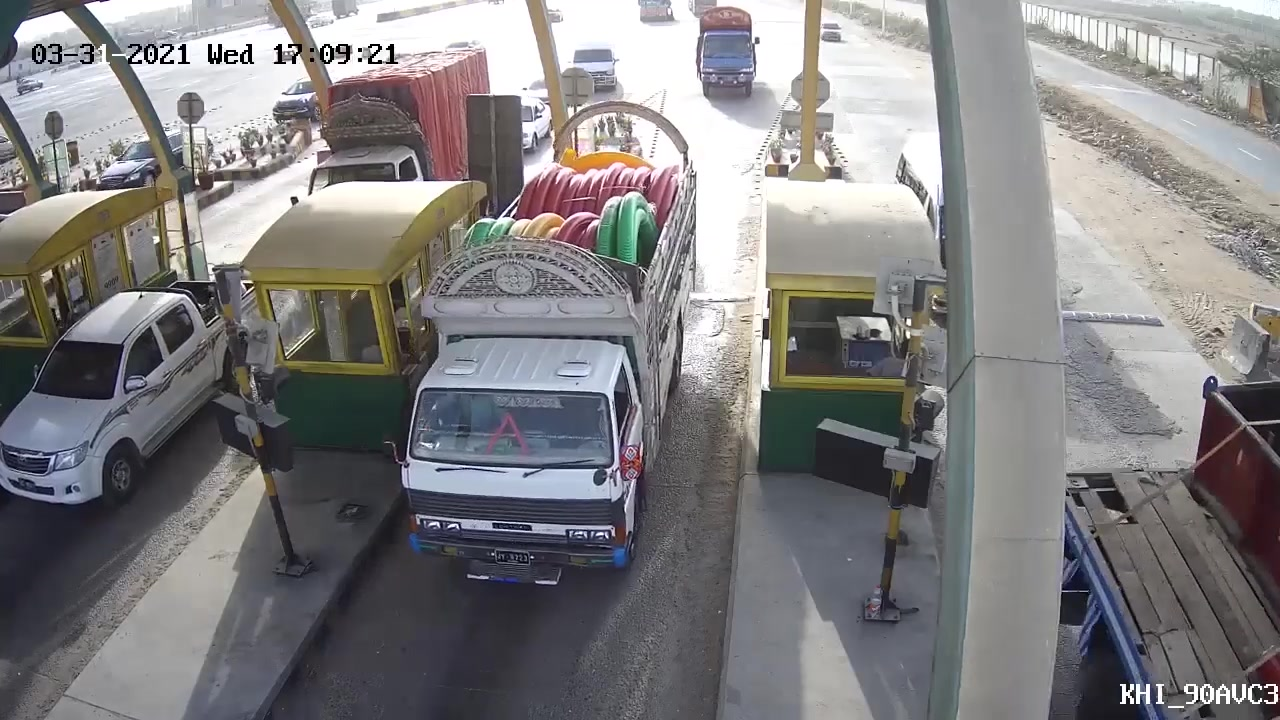F4: (373, 100, 712, 603)
